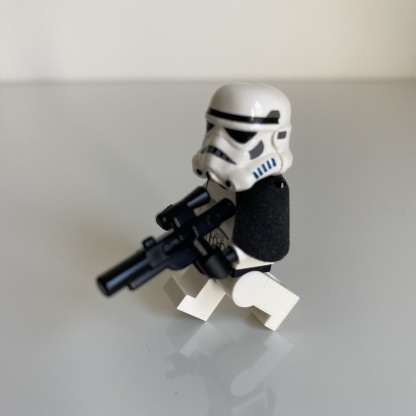sturmtruppler: (94, 81, 300, 331)
